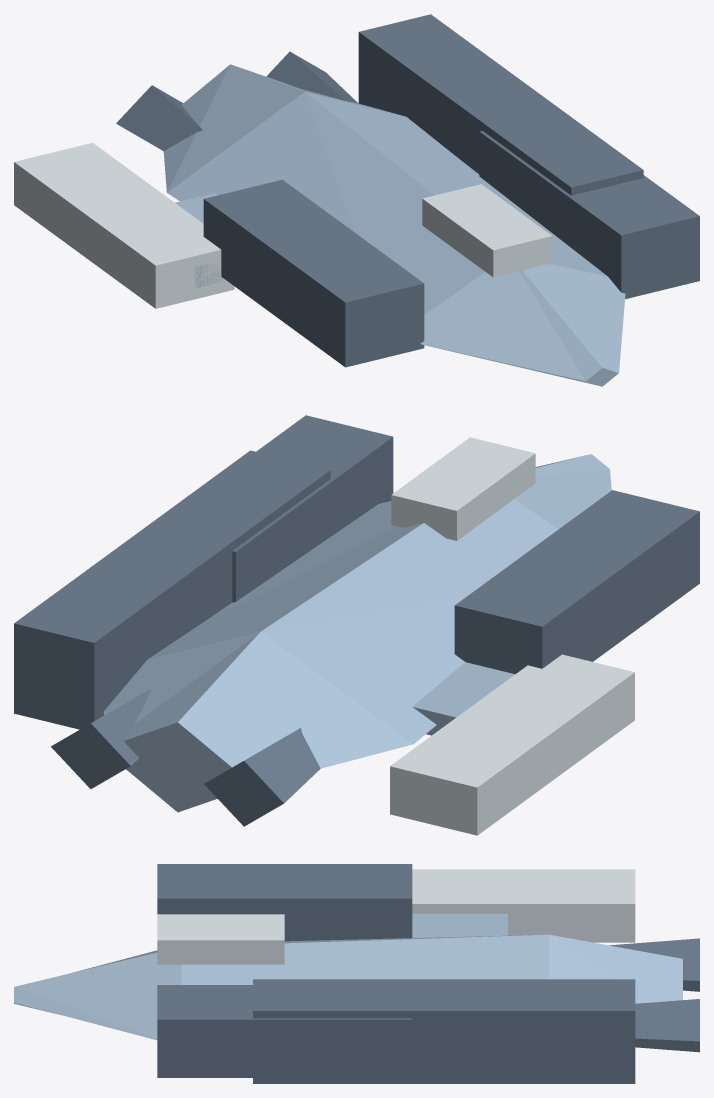
3 views of the same model, one above another, from view 1: azimuth 30°, elevation 25°; view 2: azimuth 150°, elevation 25°; view 3: azimuth 270°, elevation 25° (orthographic). The views are drawn at different scales.
Size of the model in its own units: 2.76 by 0.901 by 4.35.
